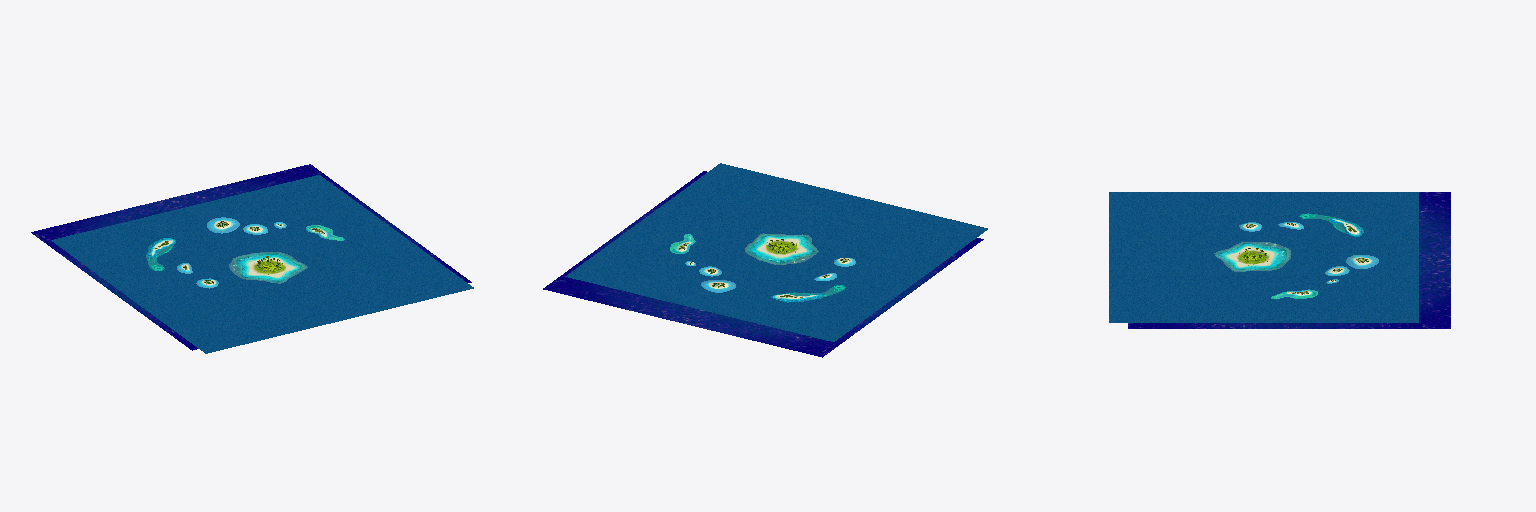
3 views of the same model, side by side, from view 1: azimuth 30°, elevation 25°; view 2: azimuth 150°, elevation 25°; view 3: azimuth 270°, elevation 25° (orthographic).
Size of the model in its own units: 22501 by 738 by 23797.
9 materials, 9 textured.